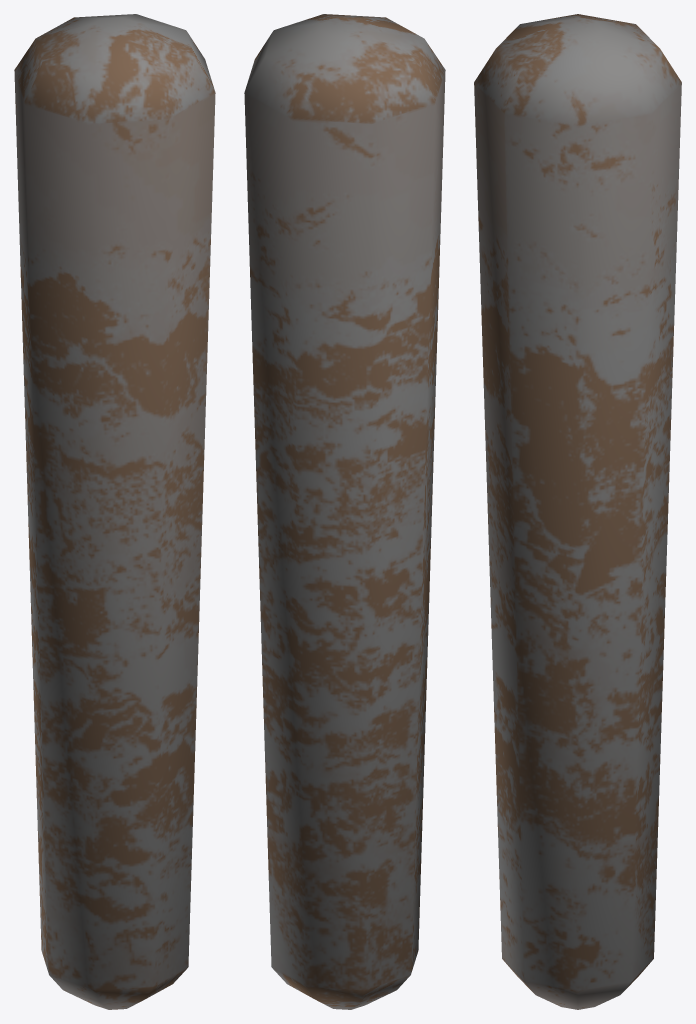
Rendered from Levier_Texture_final.fbx.
3 renders of one model, left to right at view 1: azimuth 30°, elevation 25°; view 2: azimuth 150°, elevation 25°; view 3: azimuth 270°, elevation 25°, orthographic.
Parts seen in each view (by area): view 1: Levier; view 2: Levier; view 3: Levier.
Part boxes in pixels (box(x1,y1,x2,y2)): Levier: box(14, 14, 215, 1009); Levier: box(244, 14, 445, 1009); Levier: box(474, 14, 681, 1009).
Bounding box in the file's own units: 41.9 × 216 × 41.9.
